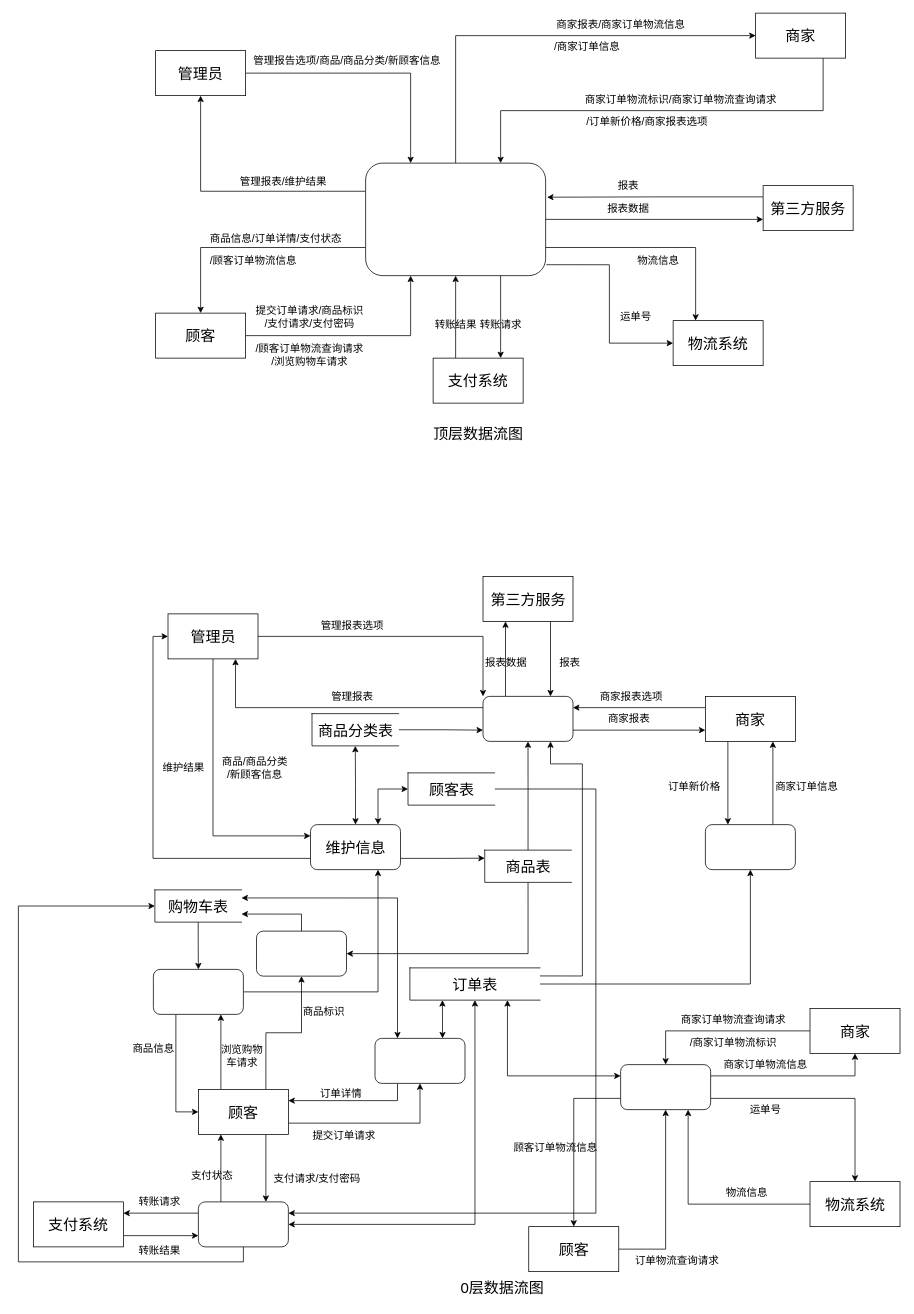
The diagram is 914 pixels wide and 1314 high, and some of its shapes have lost their labels. The shapes that lost their labels are listed below. From the top down, each one's centre as x and y in pixels, then its label:
At pixel 455 219: "购物车".
At pixel 527 718: "生成报表".
At pixel 750 847: "改变价格".
At pixel 301 953: "加入购物车".
At pixel 198 991: "浏览购物车".
At pixel 419 1060: "提交订单".
At pixel 665 1087: "物流跟踪".
At pixel 243 1224: "付款".
